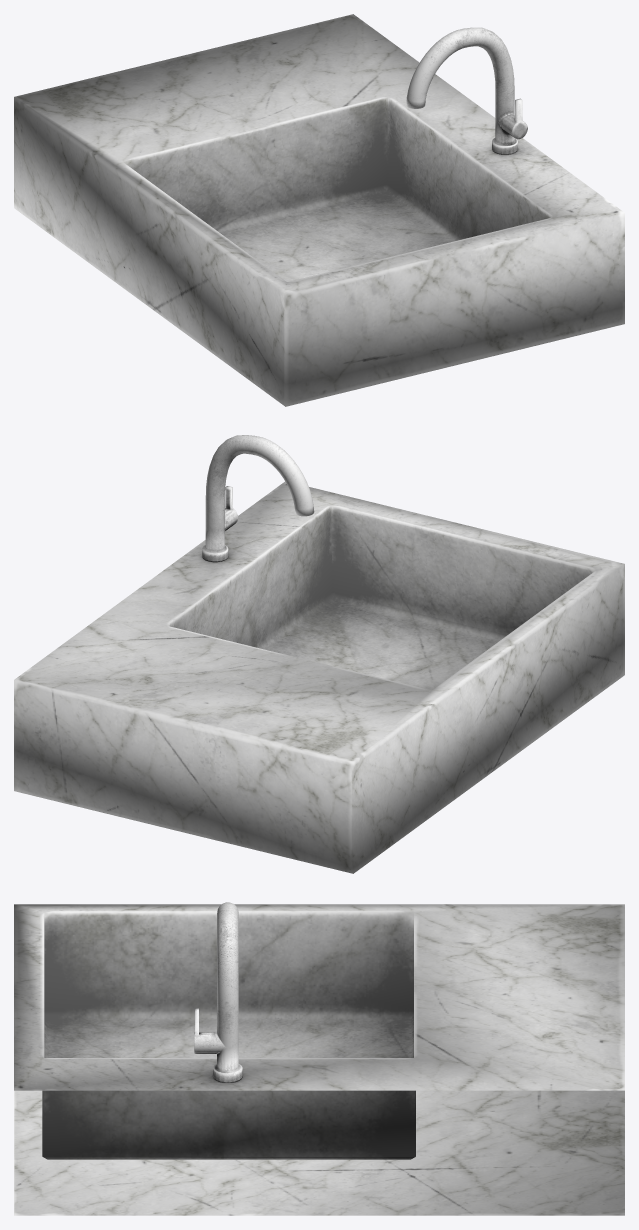
File: Bathroom_Sink.fbx
3 renders of one model, top to bottom at view 1: azimuth 30°, elevation 25°; view 2: azimuth 150°, elevation 25°; view 3: azimuth 270°, elevation 25°, orthographic. The views are drawn at different scales.
Parts seen in each view (by area): view 1: Sink_low; view 2: Sink_low; view 3: Sink_low.
Boxes of the visible parts, x1,y1,x2,y2 form: Sink_low: [14, 14, 624, 406]; Sink_low: [14, 435, 624, 873]; Sink_low: [14, 902, 624, 1215].
Size of the model in its own units: 88.59 by 60.05 by 123.
1 material, 1 textured.
